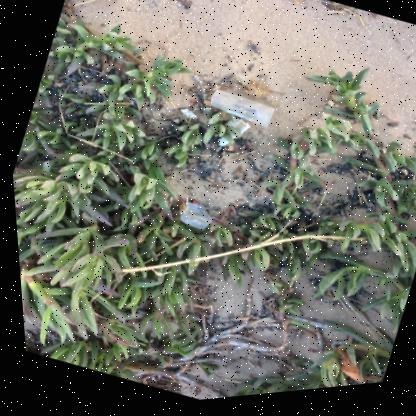Plastic: (208, 92, 271, 131), (175, 200, 214, 232)
Waste: (221, 121, 246, 141), (214, 133, 234, 149), (178, 111, 193, 120)
